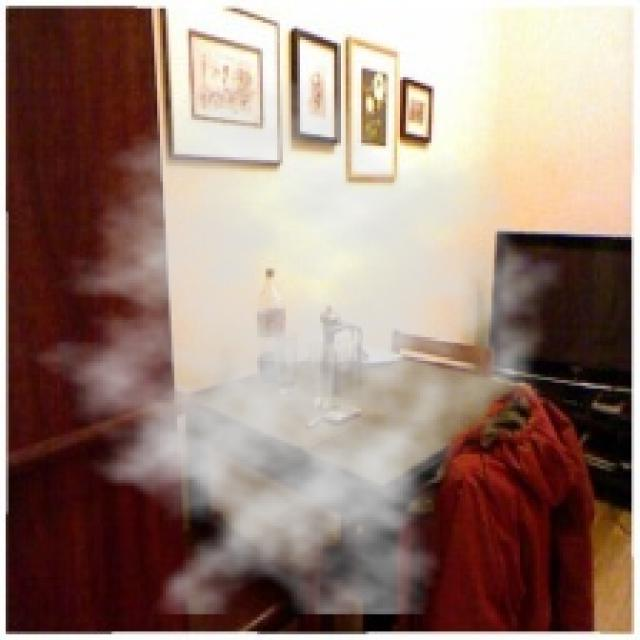smoke: (8, 77, 566, 614)
